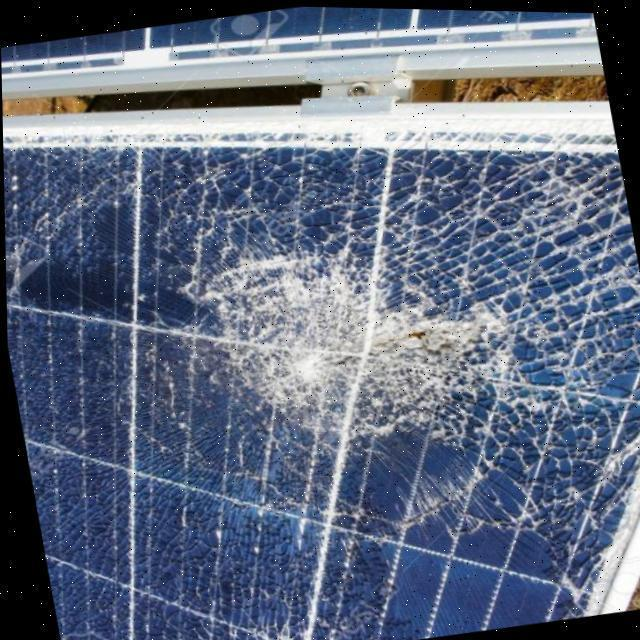Anomaly Solar Panel: (2, 127, 640, 640)
Normal Solar Panel: (1, 5, 596, 71)
Structural Damage: (154, 134, 600, 533), (135, 527, 409, 640)
